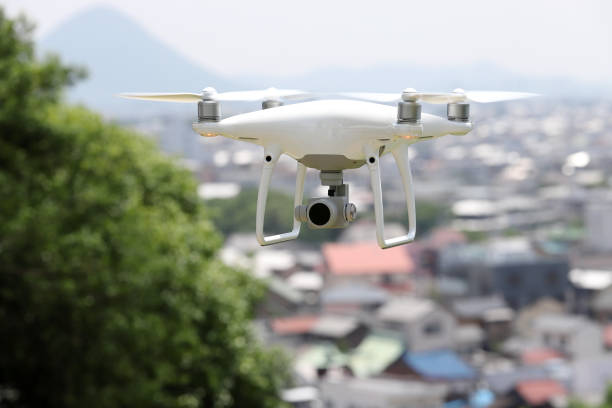Drone: (109, 84, 543, 256)
